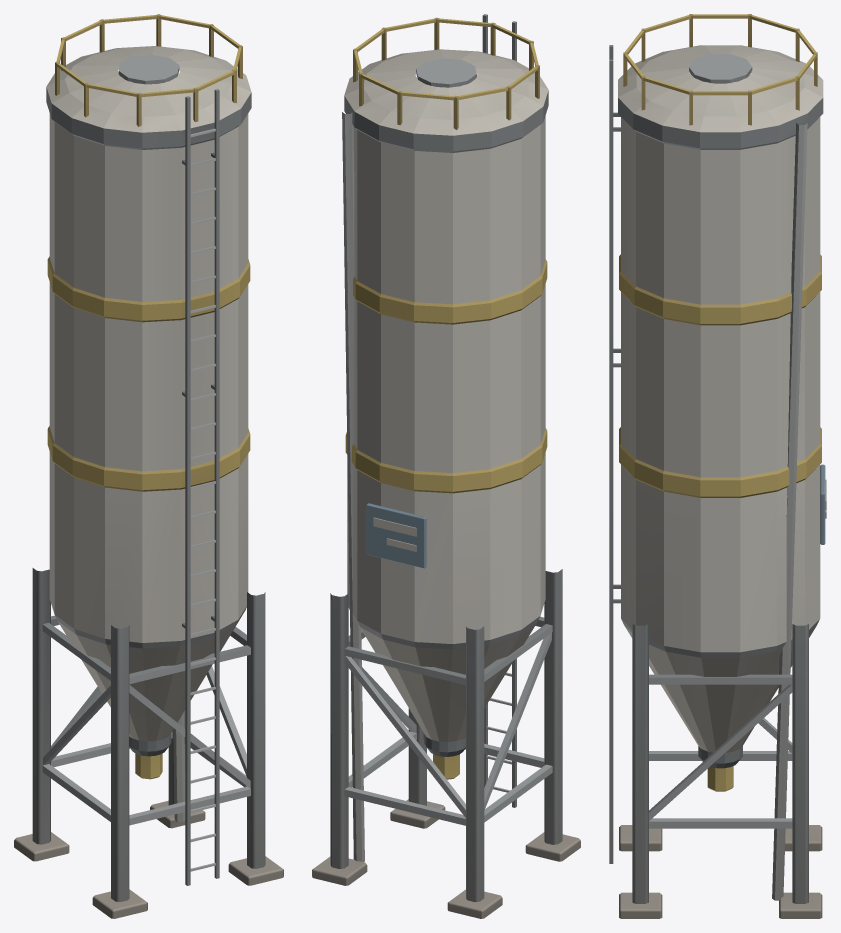
Rendered from silo.glb.
The picture shows the model from 3 angles, left to right: view 1: azimuth 30°, elevation 25°; view 2: azimuth 150°, elevation 25°; view 3: azimuth 270°, elevation 25°; orthographic projection. The views are drawn at different scales.
Bounding box in the file's own units: 3.24 × 14.3 × 3.42.
